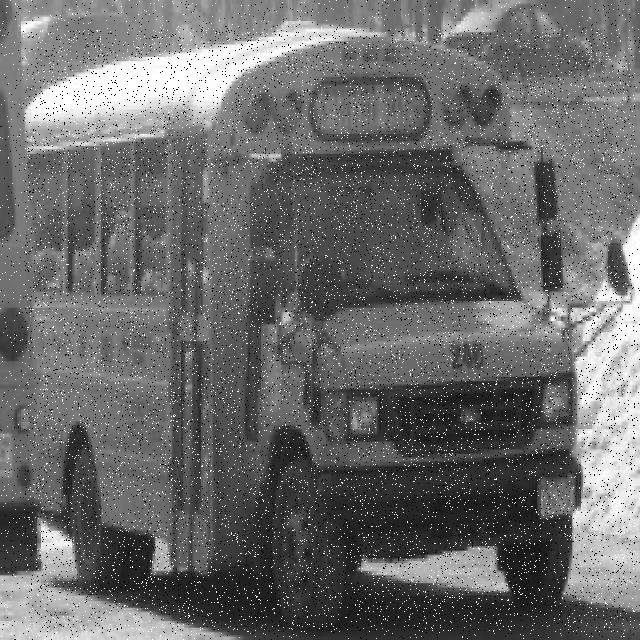Bus- Small: (25, 29, 635, 632)
